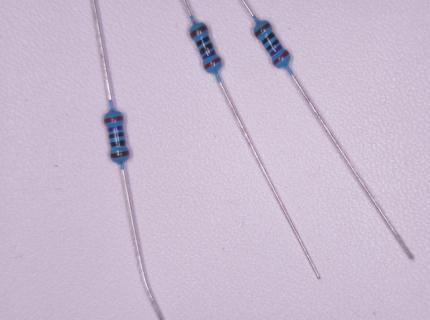Black band: (199, 42, 213, 55), (263, 32, 275, 45), (266, 39, 279, 51), (196, 36, 210, 47), (109, 132, 124, 139), (112, 140, 126, 147)
Brown band: (255, 22, 271, 36), (191, 25, 208, 38), (111, 150, 129, 158)
Red band: (273, 50, 289, 65), (204, 57, 221, 69), (104, 116, 123, 123)
Violet band: (270, 45, 283, 56), (203, 49, 216, 59), (108, 125, 123, 132)
